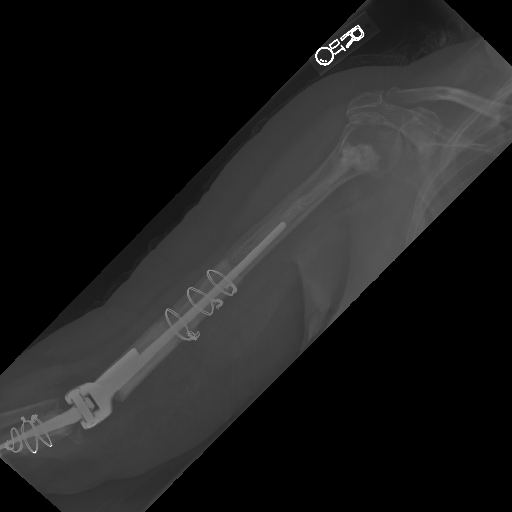implant: (3, 348, 129, 456), (154, 250, 242, 362)
